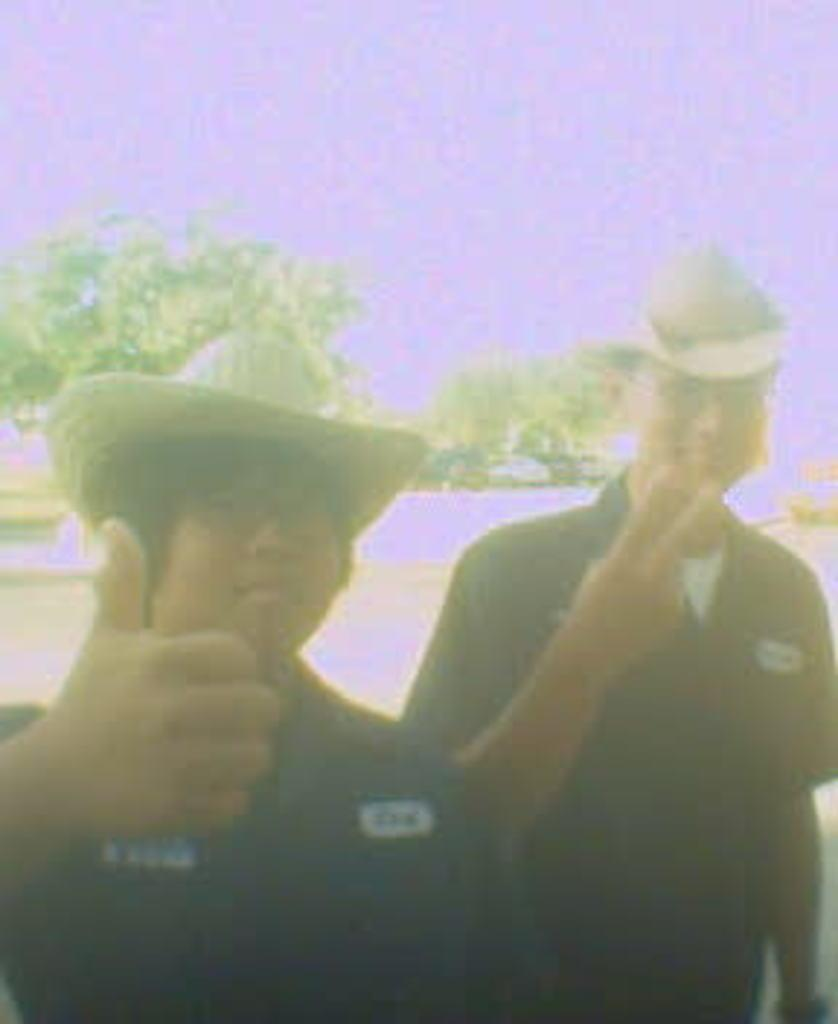Hat: (35, 331, 419, 540), (613, 244, 785, 381)
